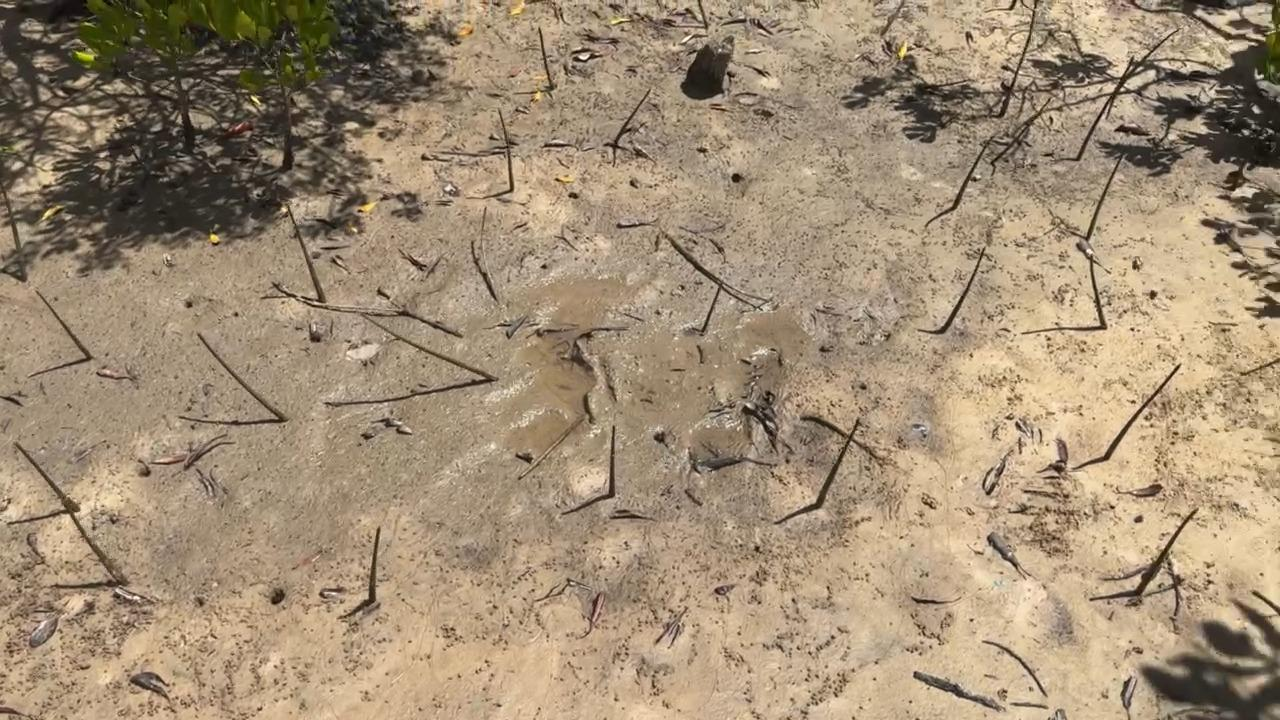Tree: (189, 0, 343, 170), (70, 0, 201, 148), (360, 312, 498, 381), (195, 331, 288, 422), (1103, 363, 1183, 461), (1077, 54, 1136, 160), (1134, 507, 1200, 594), (64, 505, 129, 585), (12, 440, 80, 511), (1000, 0, 1037, 116), (1117, 28, 1181, 92), (814, 417, 860, 506), (35, 290, 94, 359), (938, 247, 986, 331), (287, 205, 326, 302), (1085, 154, 1122, 241), (950, 137, 994, 210), (0, 180, 27, 281), (612, 87, 652, 146), (480, 204, 499, 301), (497, 107, 515, 193), (1089, 253, 1107, 329), (701, 279, 725, 332), (368, 524, 382, 603), (538, 26, 554, 90), (879, 0, 904, 36), (608, 424, 616, 496), (0, 705, 30, 718), (698, 0, 707, 28), (1009, 0, 1017, 10)
